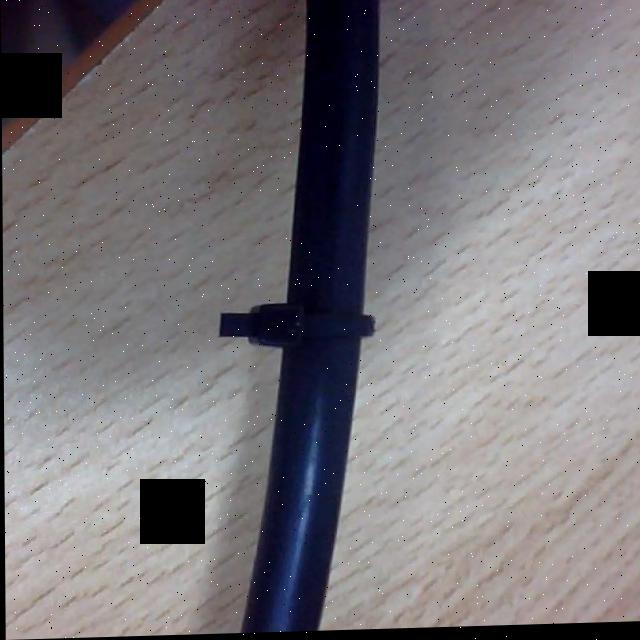cable-tie: (214, 298, 376, 355)
